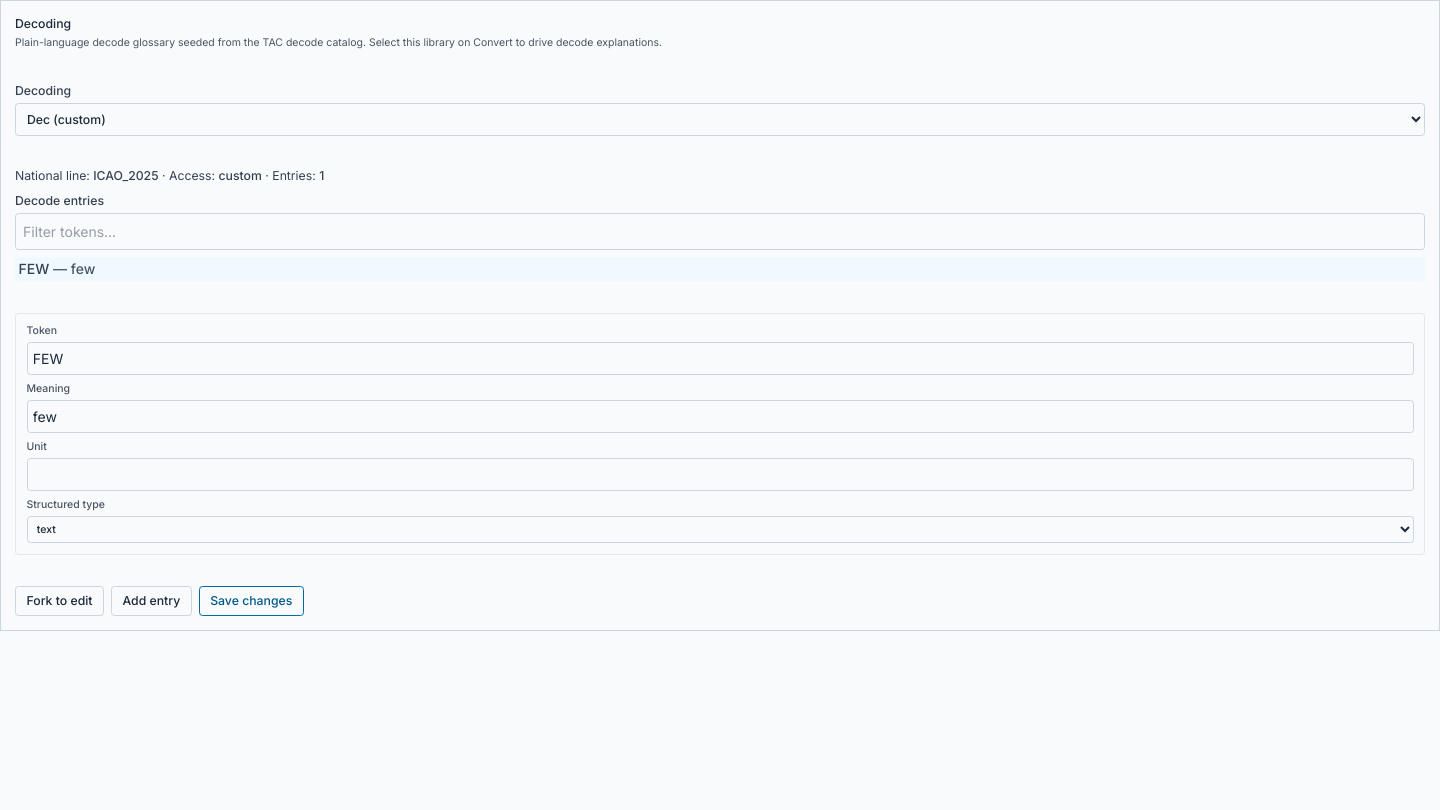
it: EVWB P1–P4 coverage fills › covers decoding save failure path
This screenshot has width=1440, height=810.
Click the button with test id "decoding-rules-save" at (251, 601), box [199,586,304,616]
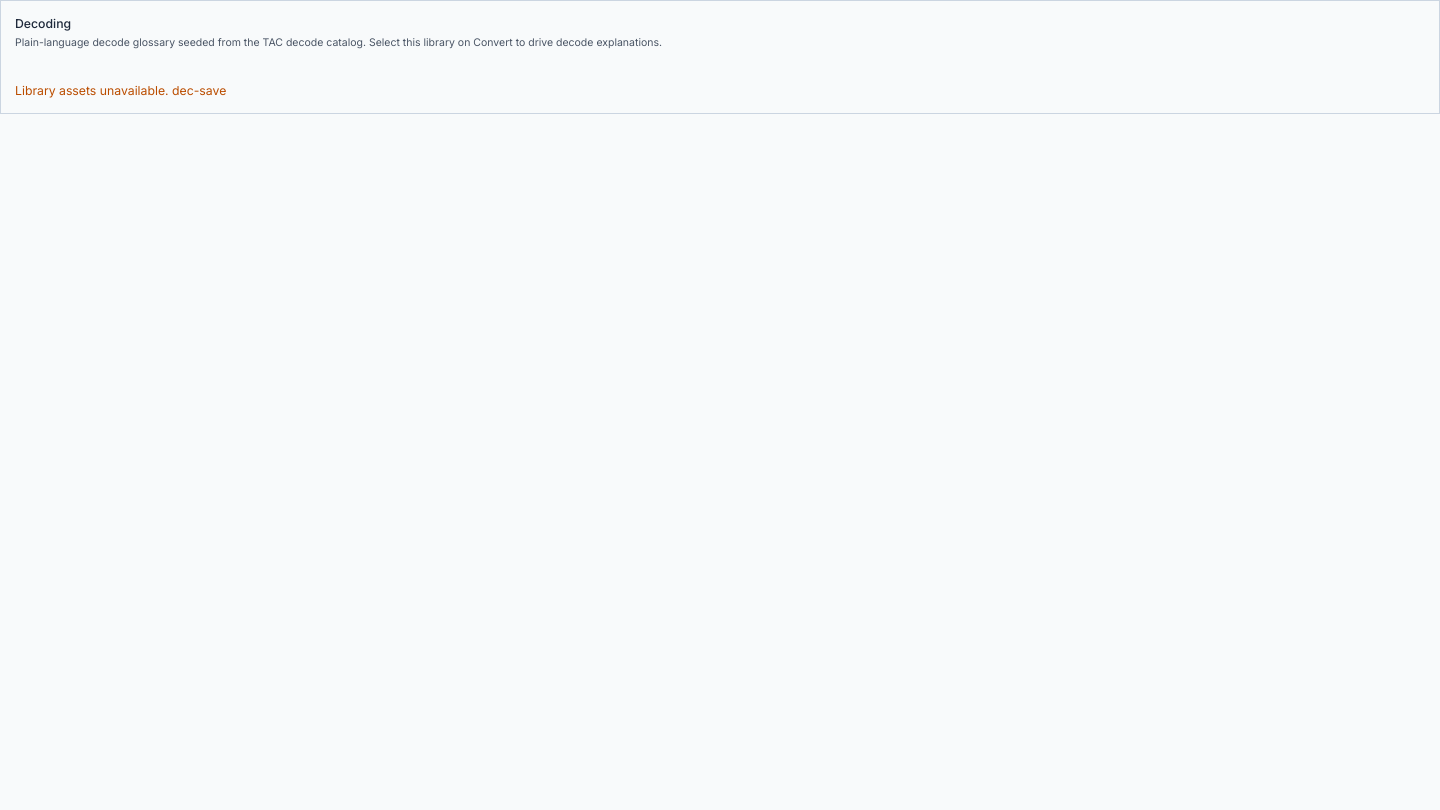
Expected: the text with test id "decoding-panel-error" shows "dec-save", [172,82,226,98]
